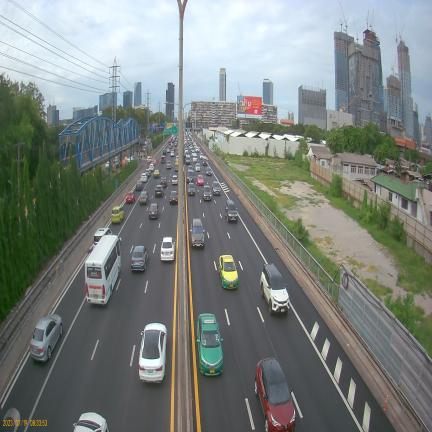bus: (85, 235, 121, 304)
car: (255, 358, 295, 432), (139, 323, 167, 383), (30, 314, 63, 361), (260, 264, 290, 314), (73, 412, 108, 432), (190, 218, 205, 248), (131, 246, 148, 271), (160, 237, 175, 261), (225, 199, 238, 223), (111, 206, 124, 223), (202, 185, 212, 201), (149, 203, 159, 219), (212, 181, 221, 195), (139, 191, 148, 205), (187, 167, 194, 183), (187, 182, 195, 196), (126, 191, 135, 203), (170, 191, 178, 204), (155, 184, 163, 197), (135, 179, 143, 191), (160, 176, 167, 188), (141, 172, 148, 183), (172, 175, 178, 185), (206, 167, 212, 176), (145, 168, 150, 178), (148, 163, 154, 171), (195, 163, 200, 172), (170, 150, 175, 157)
pickup: (202, 156, 208, 166), (185, 154, 190, 165), (166, 160, 172, 169), (161, 155, 165, 163)
taxi: (197, 313, 223, 375), (218, 255, 238, 288), (196, 174, 204, 185), (153, 169, 160, 178)
van: (93, 228, 112, 246), (192, 153, 197, 162)
